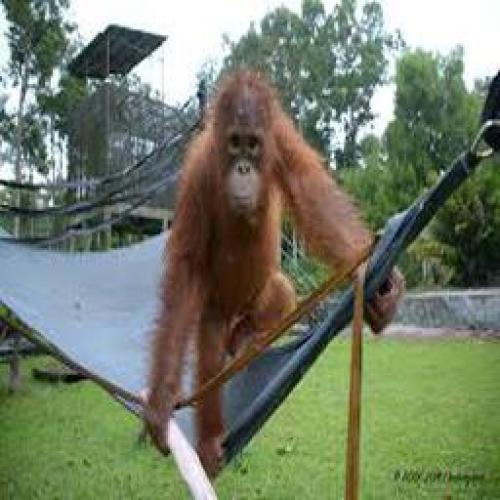orangutan-endangered: (147, 73, 405, 472)
